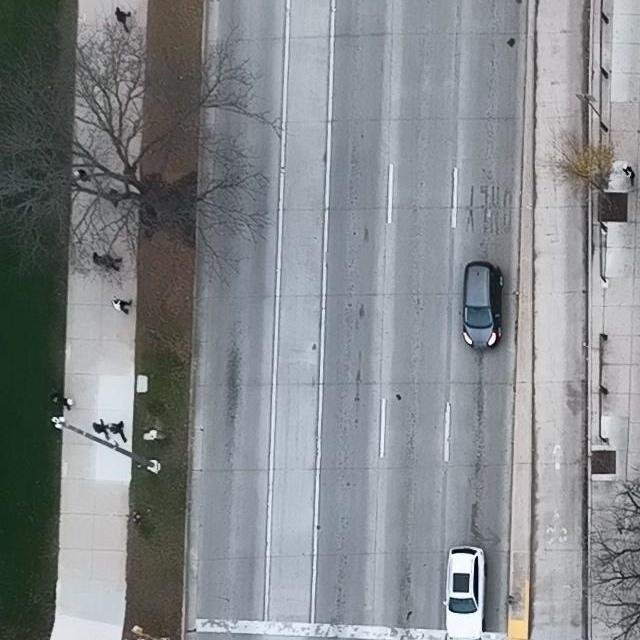car: (443, 545, 486, 640), (459, 260, 503, 350)
